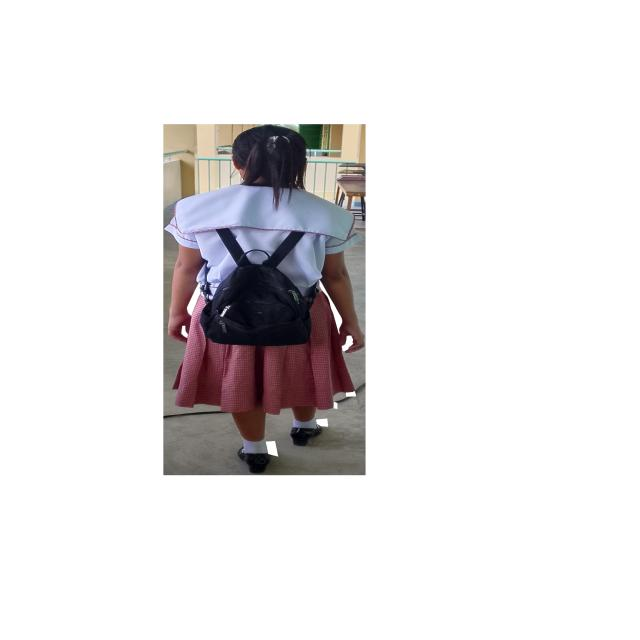pologirl: (166, 185, 360, 291)
shoes: (238, 447, 269, 473), (290, 420, 321, 446)
skirt: (173, 293, 353, 415)
